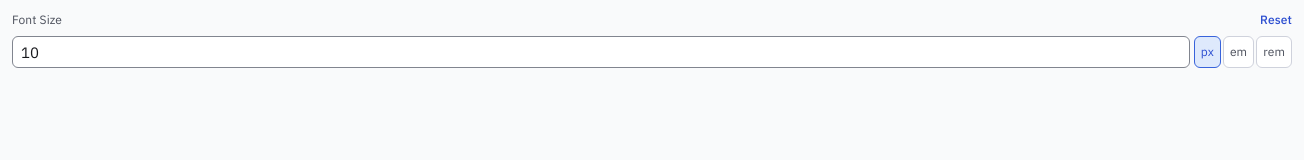
a custom step is what the arrows move by
Step 1. Click the field labelled "Font Size" → (601, 52), box [12,36,1190,68]
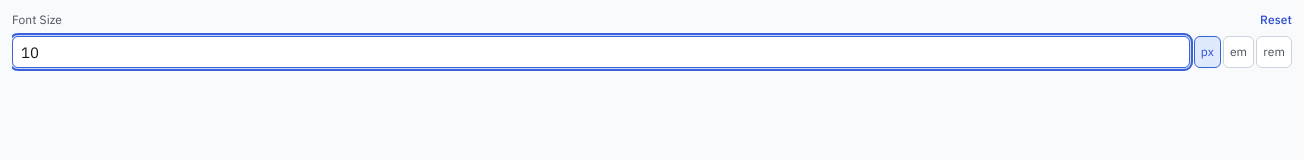
Step 2. Press Arrowup
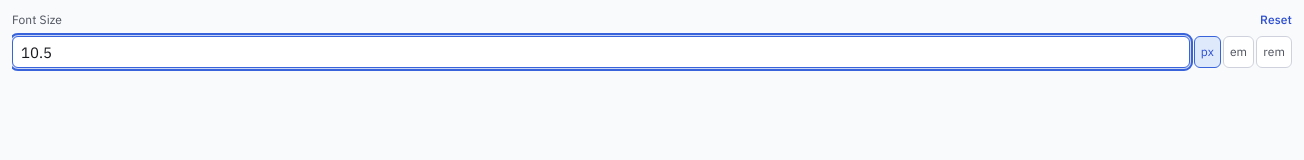
expect the field labelled "Font Size" holds "10.5": met, box [12,36,1190,68]
